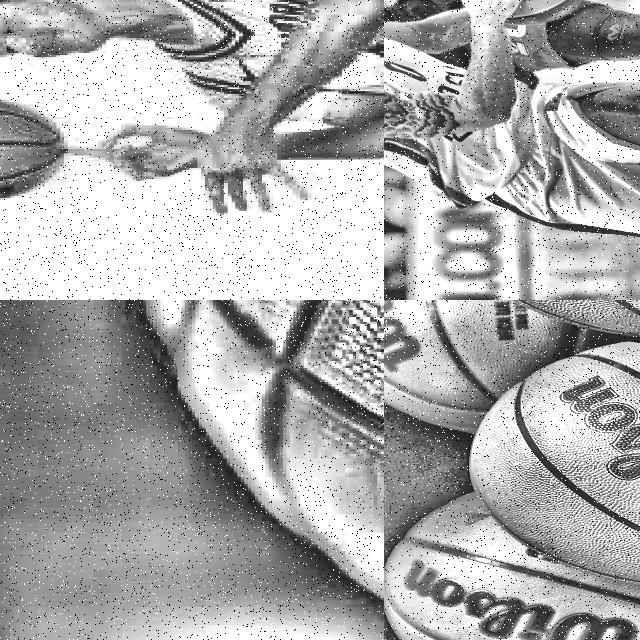Basketball: (384, 300, 640, 640), (153, 300, 384, 595), (0, 99, 66, 199), (507, 0, 583, 22)
